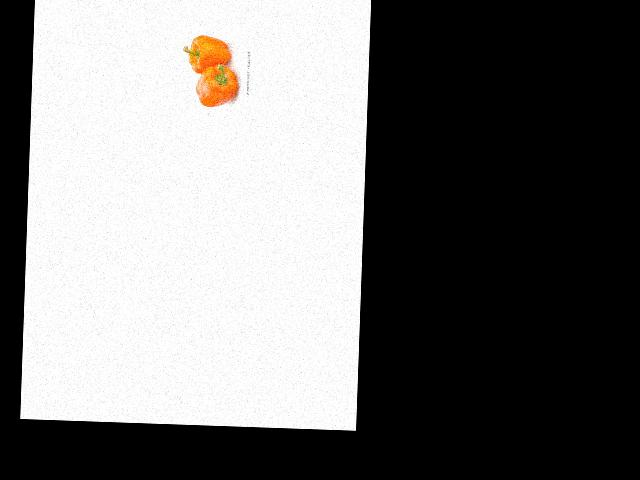bell_pepper: (193, 61, 242, 109)
